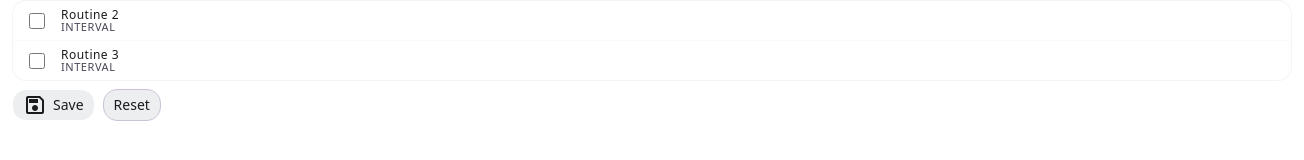
Test: DependsOnEditor › enables Save when a dependency is toggled on
This screenshot has width=1304, height=160.
What coordinates should you click on to do the following:
click the checkbox named "Depends on Routine 2"
I would click on:
 (37, 20)
Its box is x1=29 y1=12 x2=45 y2=28.
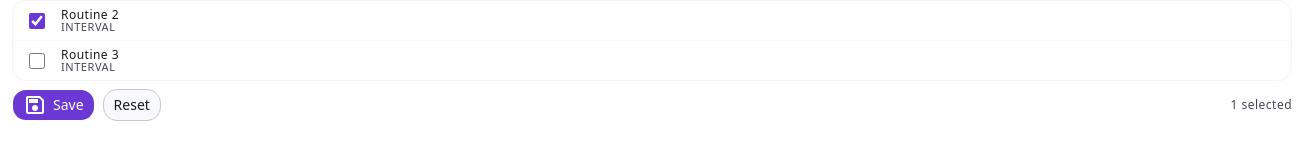
expect the button with aria-label "Save dependencies" is enabled: met, box x1=12 y1=89 x2=95 y2=121
